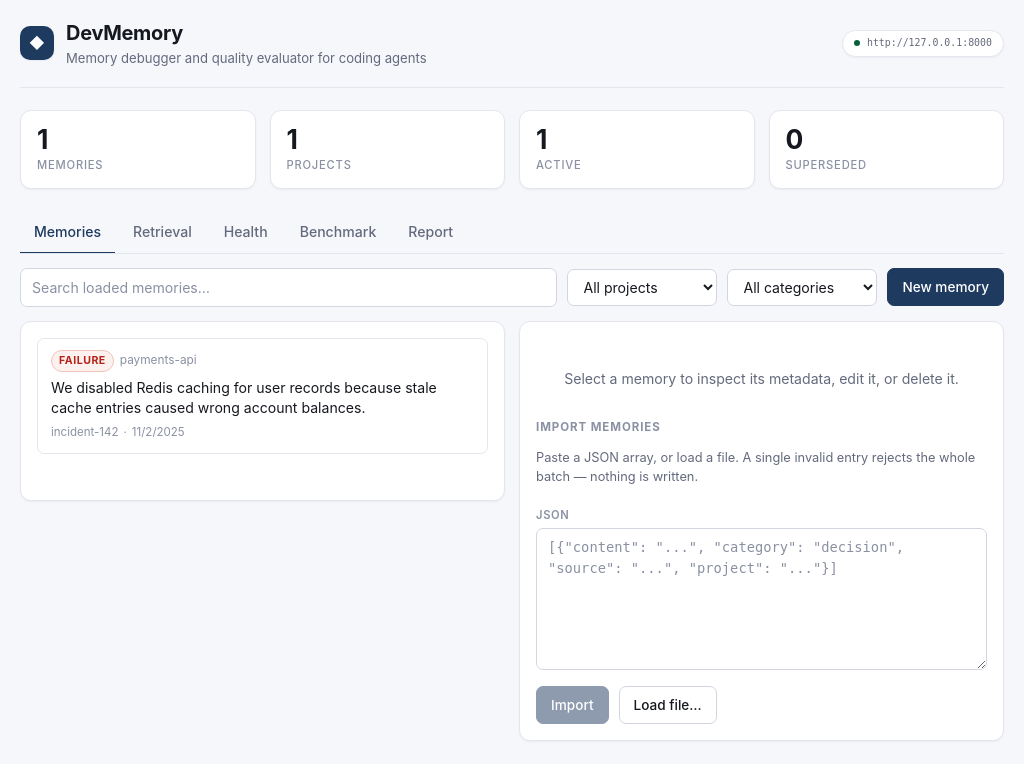
it: retrieval playground › shows ranked matches with their scores and matched terms
Expected: the text "disabled Redis caching" is shown, [51,379,437,416]
Click the tab "Retrieval" at (162, 232), box [119,210,206,254]
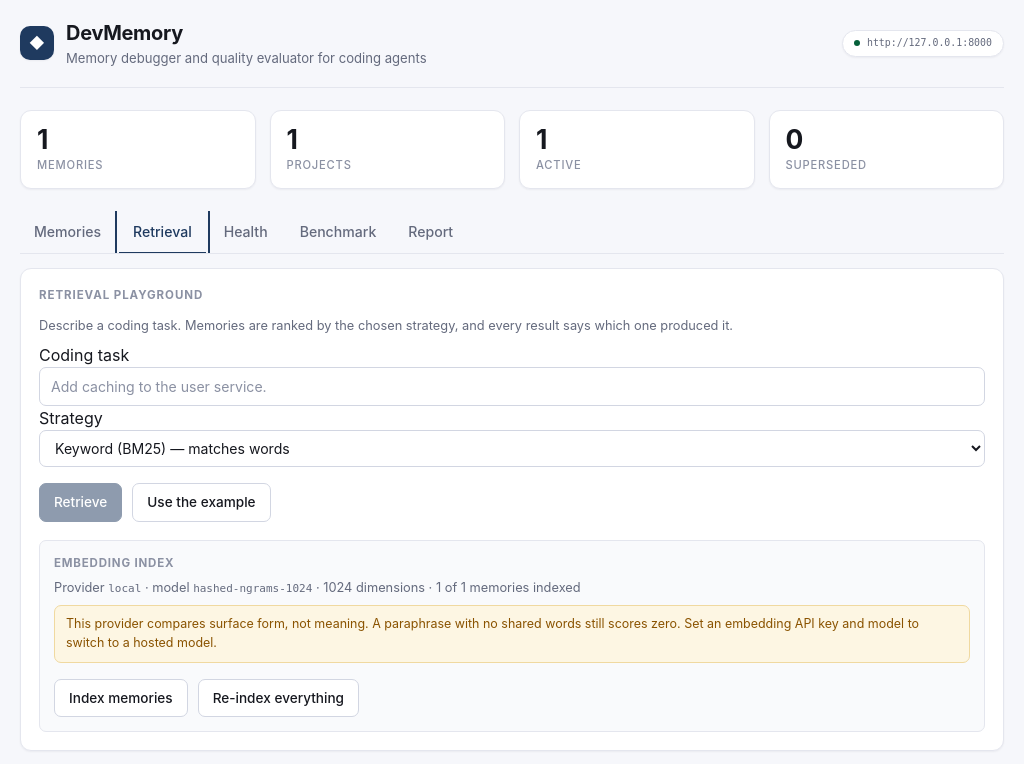
Type "add caching" into the field labelled "Coding task" at (512, 387), box [39,367,985,406]
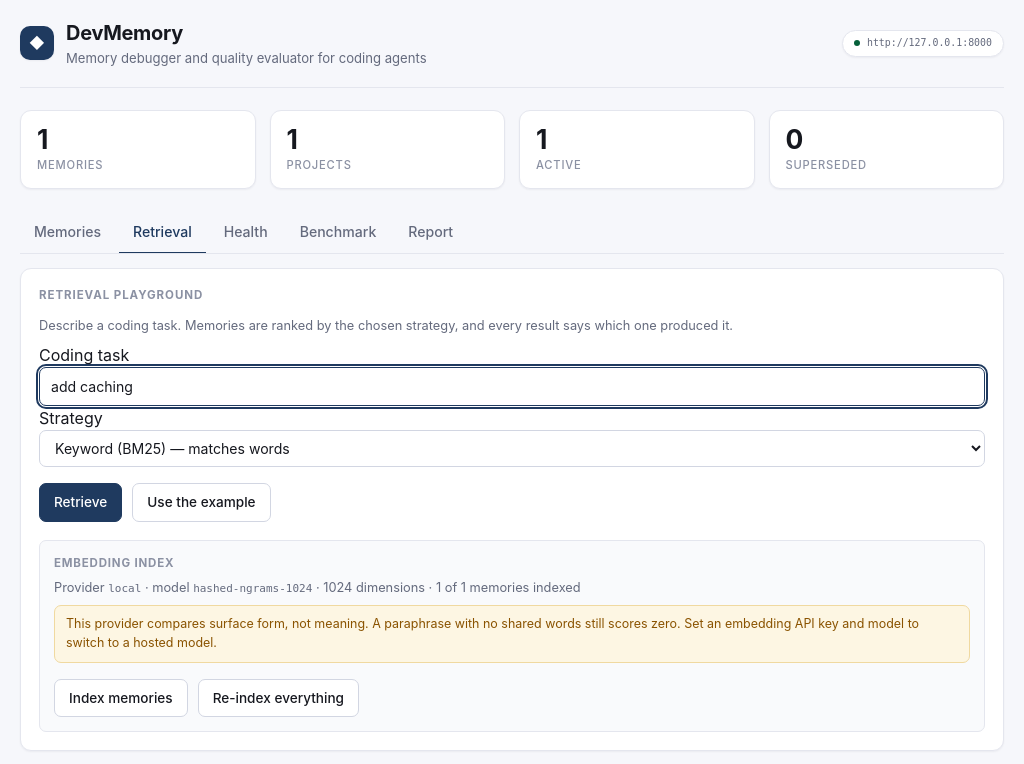
Click the button "Retrieve" at (81, 502), box [39,483,122,522]
(page scrolled)
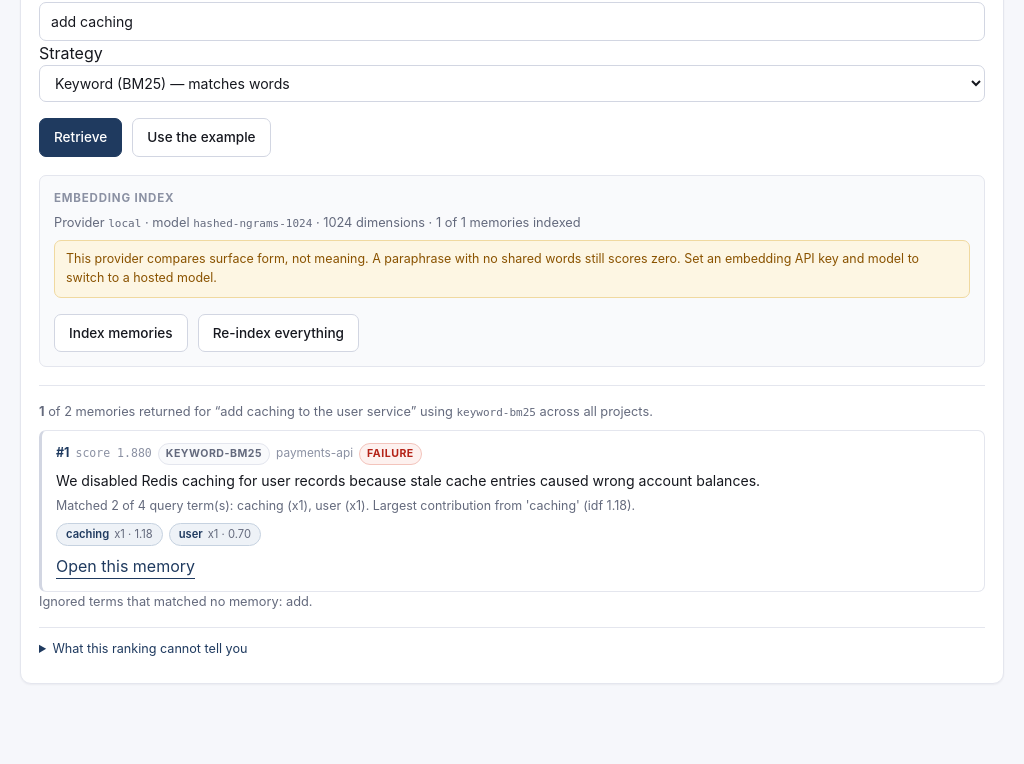
Now the text "#1" is shown, box [56,444,70,463]
Now the text "score 1.880" is shown, box [76,445,152,462]
Now the text "caching" is shown, box [66,527,109,541]
